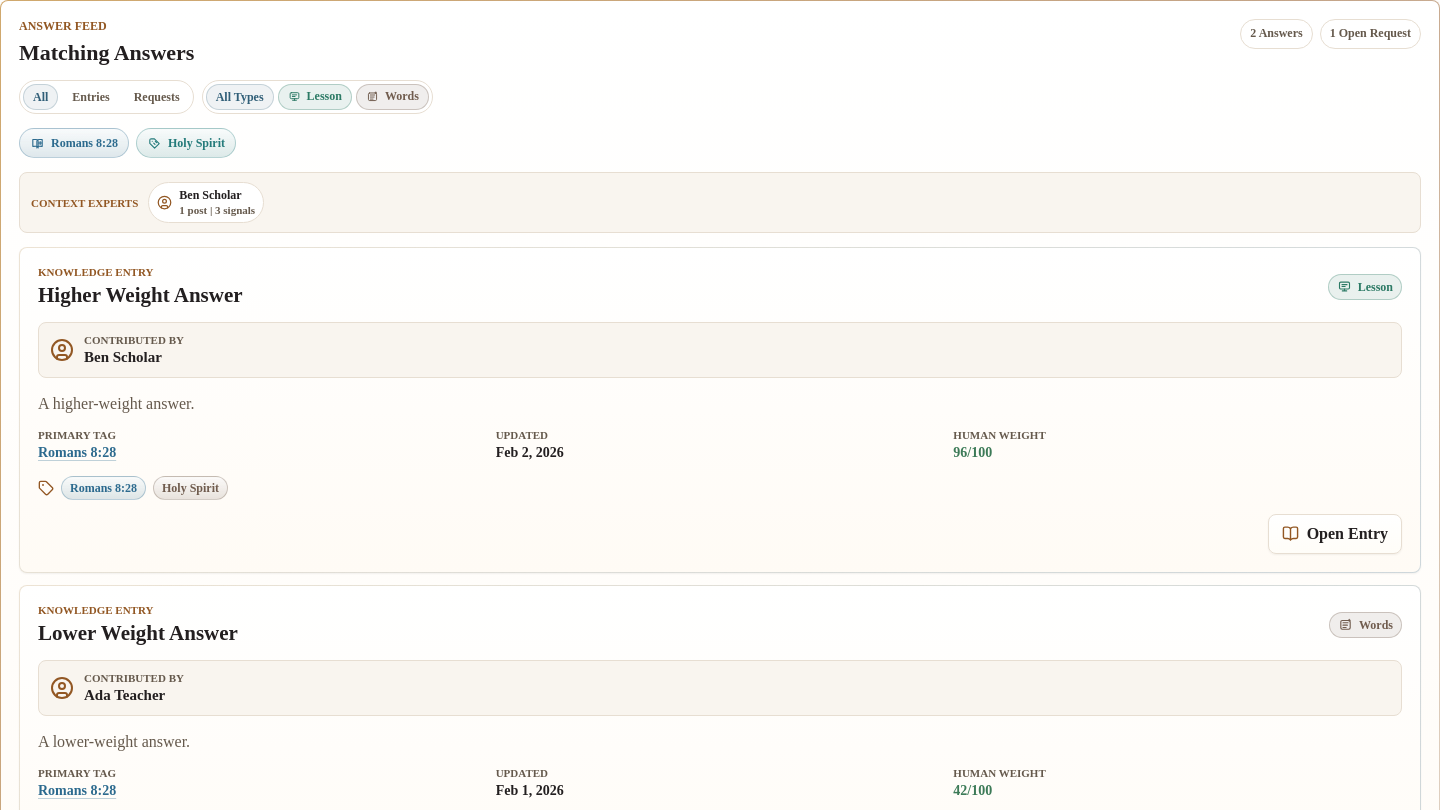
it: AnswerFeed › opens a Context Expert detail dialog with counts, contributions, and profile link
Click the button "Ben Scholar 1 post | 3 signals" at (217, 203), box left=179, top=189, right=255, bottom=216
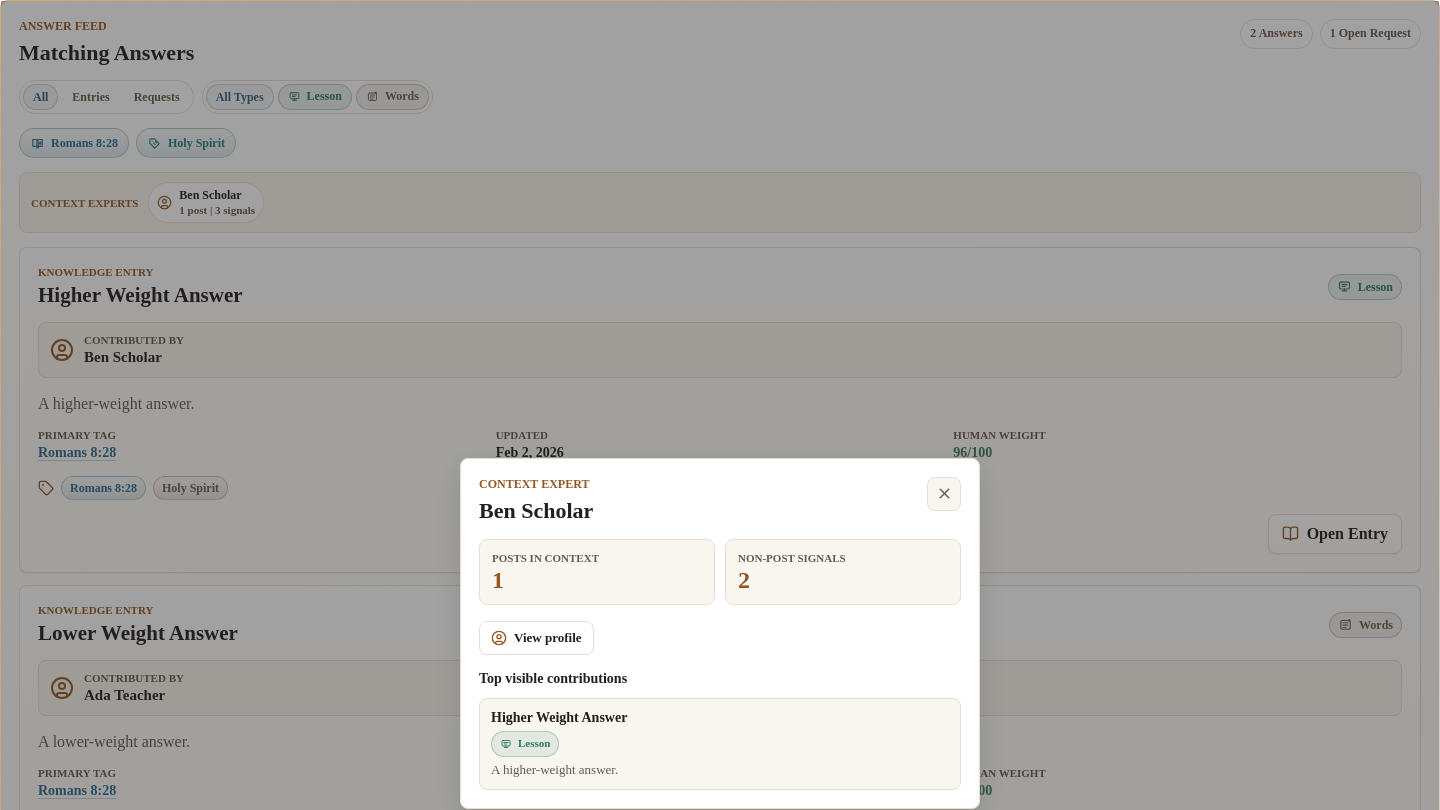
Expected: the dialog shows "Ben Scholar", left=479, top=498, right=593, bottom=523
Expected: the dialog shows "Posts in context", left=492, top=552, right=599, bottom=564
Expected: the dialog shows "Non-post signals", left=738, top=552, right=846, bottom=564
